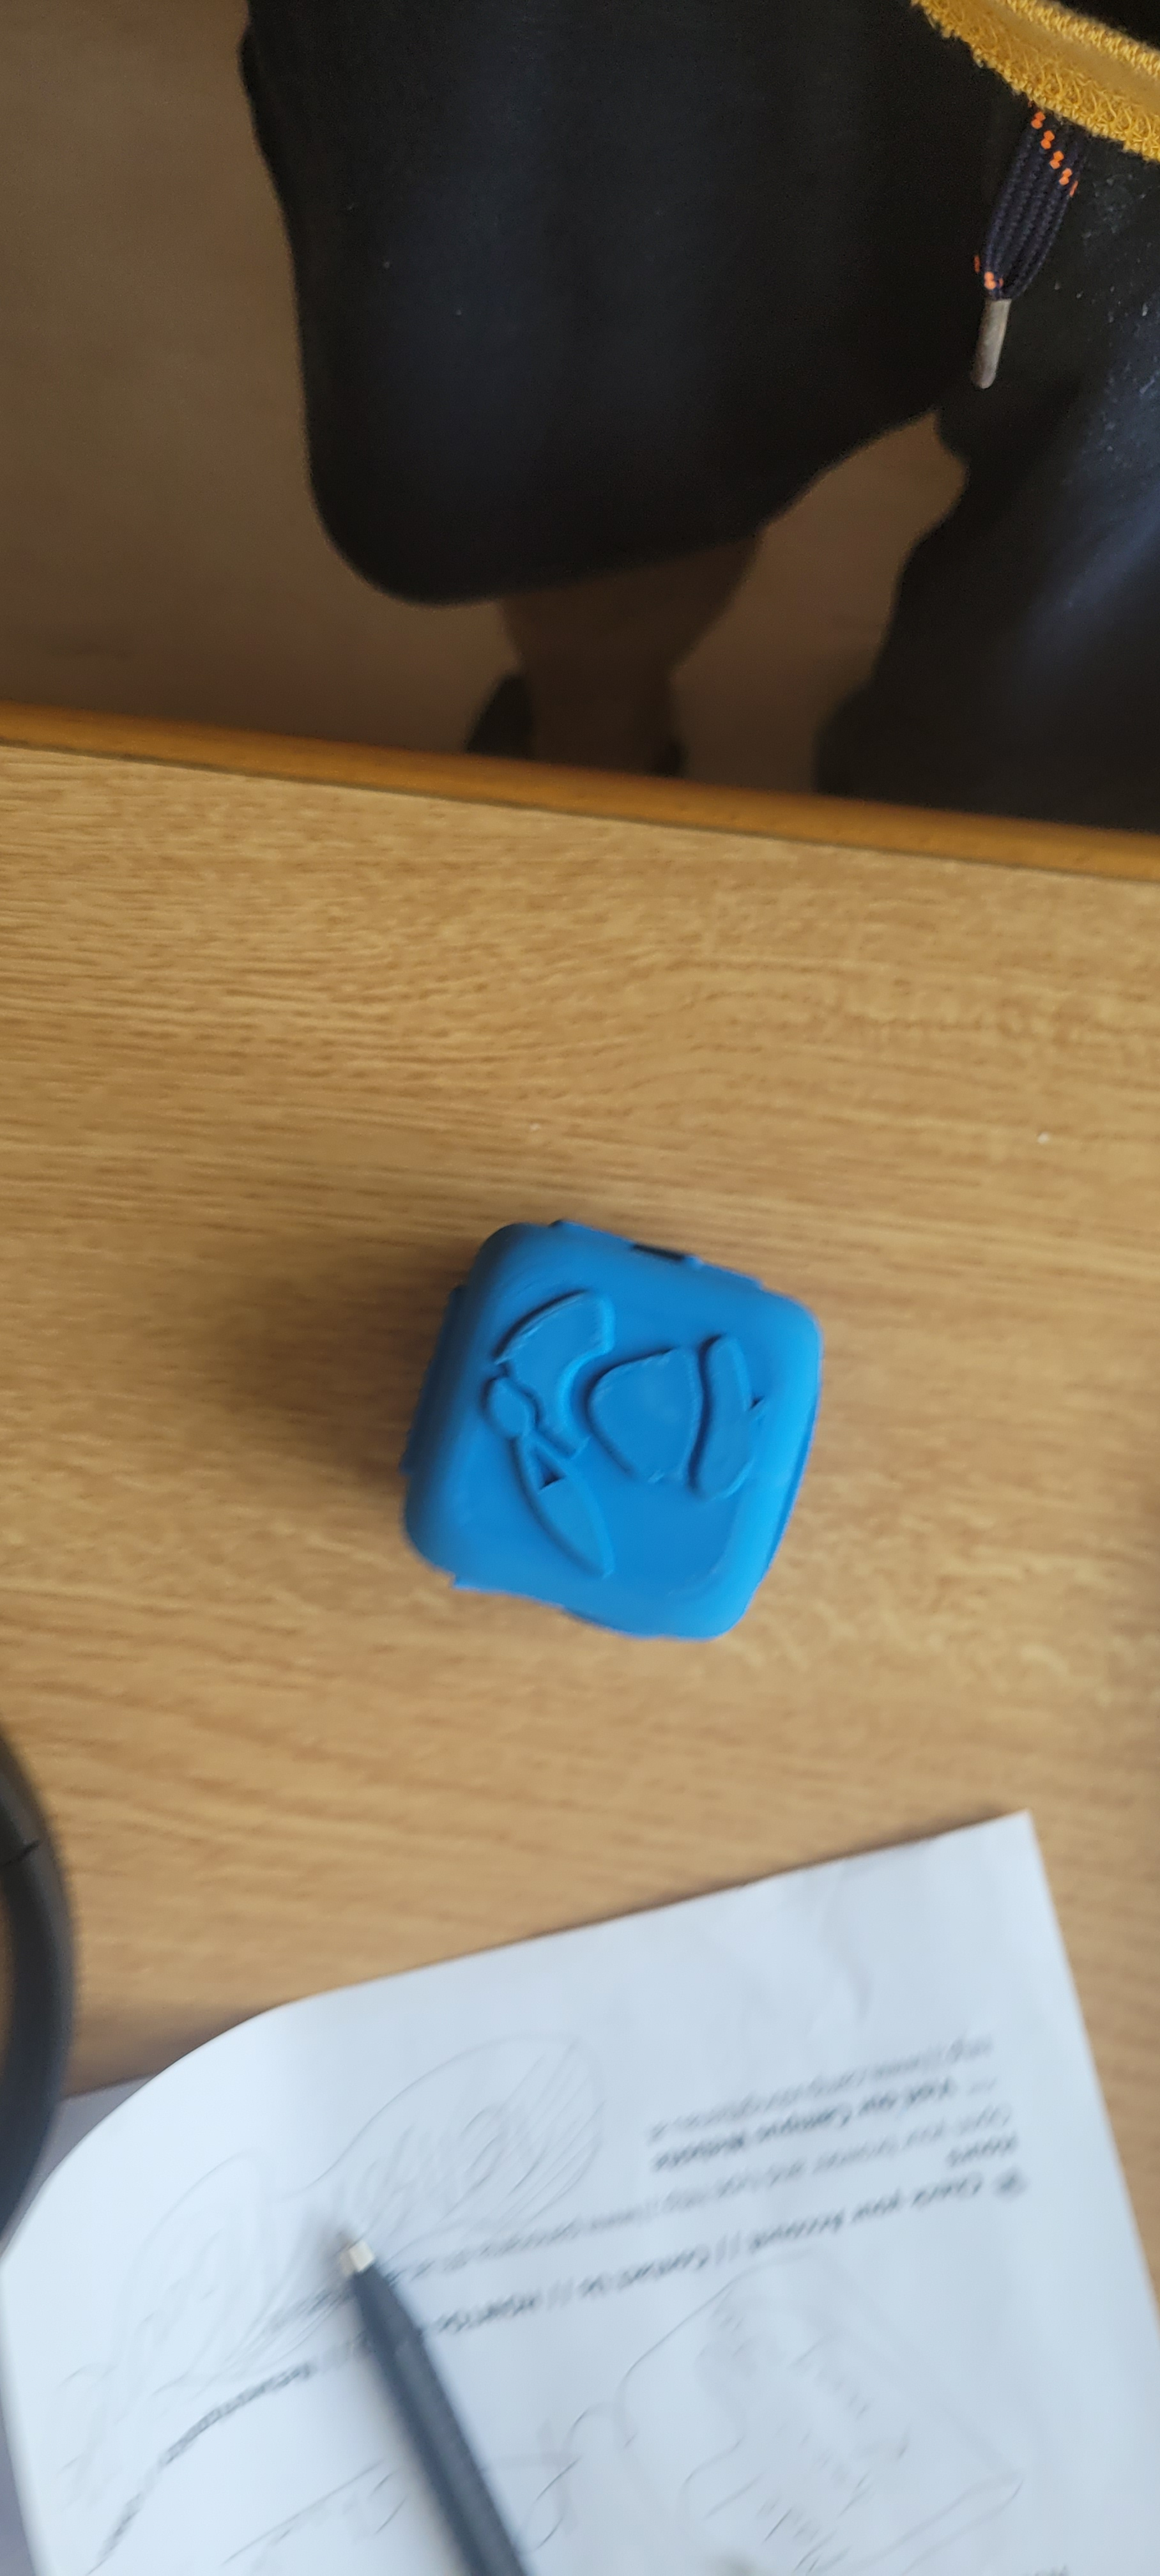Artist_Info: (411, 1189, 803, 1626)
